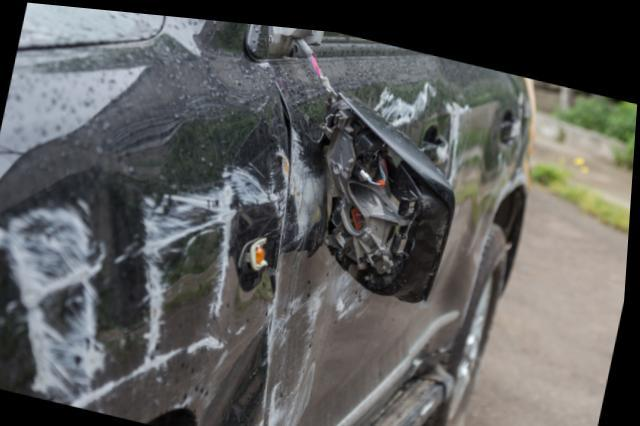rub: (0, 138, 293, 426), (270, 121, 375, 426)
scratch: (374, 76, 436, 119)
